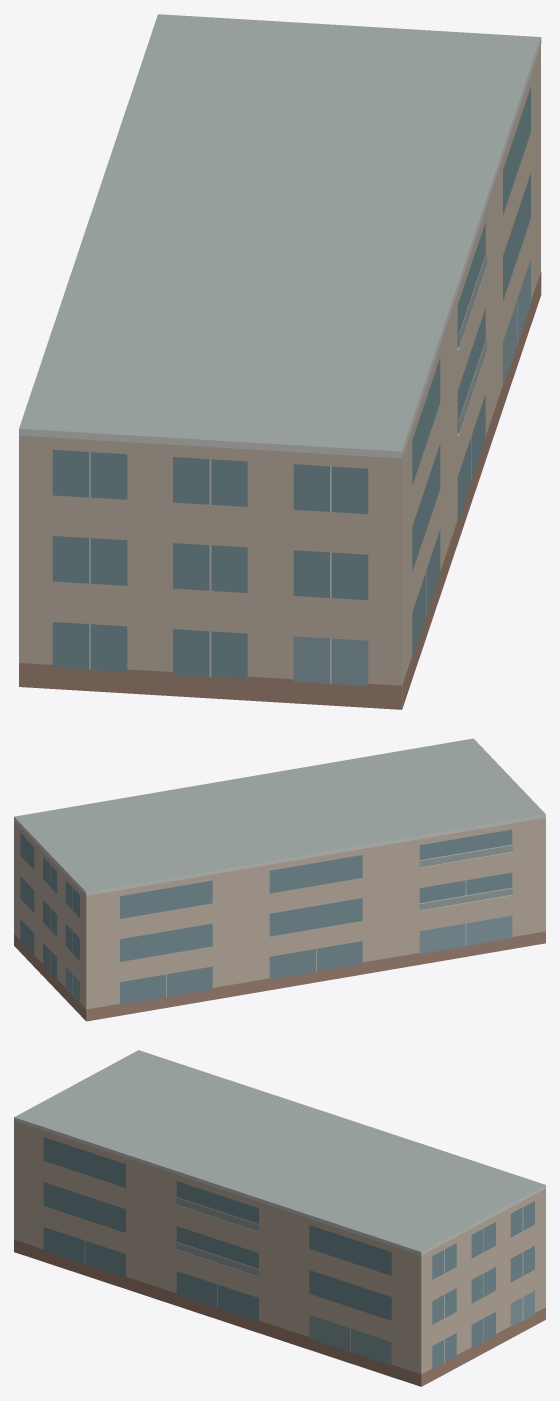
Rendered from residential-b5ea52a1-373c-4d52-83af-e6b04b1a8658.glb.
3 views of the same model, one above another, from view 1: azimuth 30°, elevation 25°; view 2: azimuth 150°, elevation 25°; view 3: azimuth 270°, elevation 25° (orthographic). The views are drawn at different scales.
Visible parts, largest first — view 1: residential-b5ea52a1-373c-4d52-83af-e6b04b1a8658.tmp; view 2: residential-b5ea52a1-373c-4d52-83af-e6b04b1a8658.tmp; view 3: residential-b5ea52a1-373c-4d52-83af-e6b04b1a8658.tmp.
Part boxes in pixels (x1=…): residential-b5ea52a1-373c-4d52-83af-e6b04b1a8658.tmp: x1=19, y1=14, x2=541, y2=709; residential-b5ea52a1-373c-4d52-83af-e6b04b1a8658.tmp: x1=14, y1=738, x2=545, y2=1021; residential-b5ea52a1-373c-4d52-83af-e6b04b1a8658.tmp: x1=14, y1=1050, x2=545, y2=1386.
Bounding box in the file's own units: 29.42 × 9.15 × 32.73.
